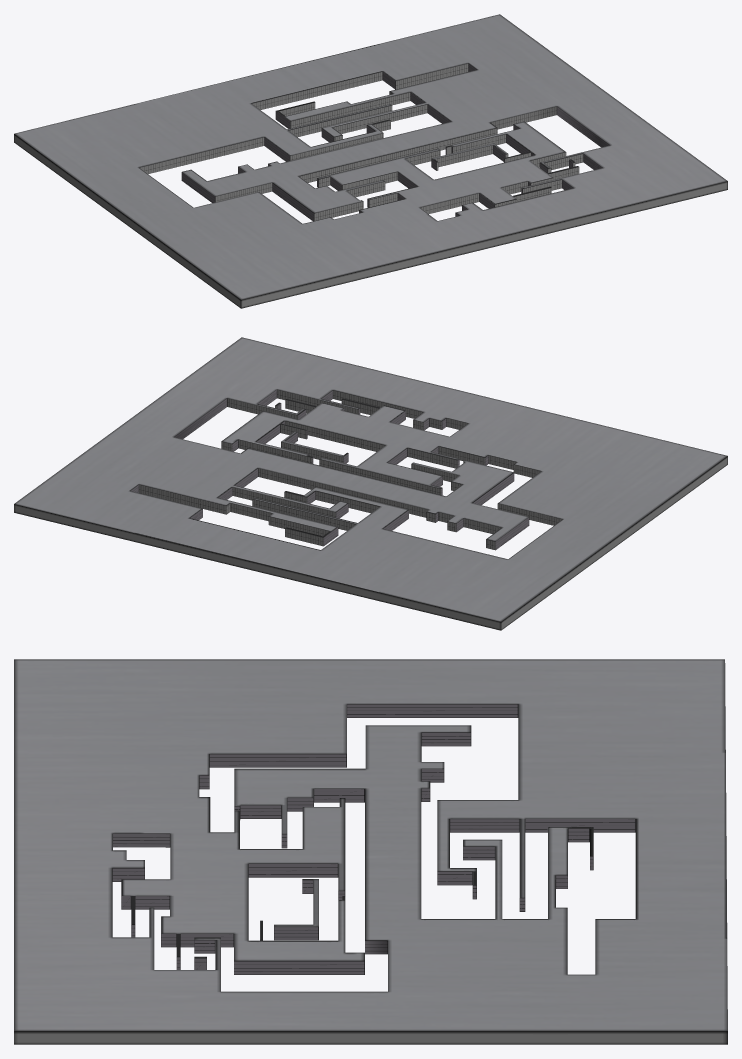
File: FinalLevelMap.FBX
The picture shows the model from 3 angles, top to bottom: view 1: azimuth 30°, elevation 25°; view 2: azimuth 150°, elevation 25°; view 3: azimuth 270°, elevation 25°; orthographic projection. The views are drawn at different scales.
Visible parts, largest first — view 1: Line002; view 2: Line002; view 3: Line002.
Part boxes in pixels (bbox=[...]): Line002: bbox=[14, 14, 727, 308]; Line002: bbox=[14, 337, 727, 630]; Line002: bbox=[14, 659, 727, 1044].
Bounding box in the file's own units: 43552 × 750 × 35337.
1 material, 1 textured.
